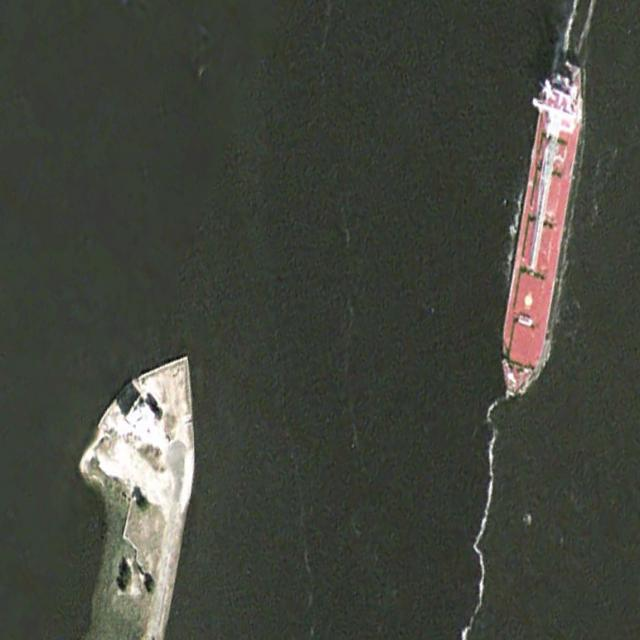Cargo: (492, 53, 590, 405)
